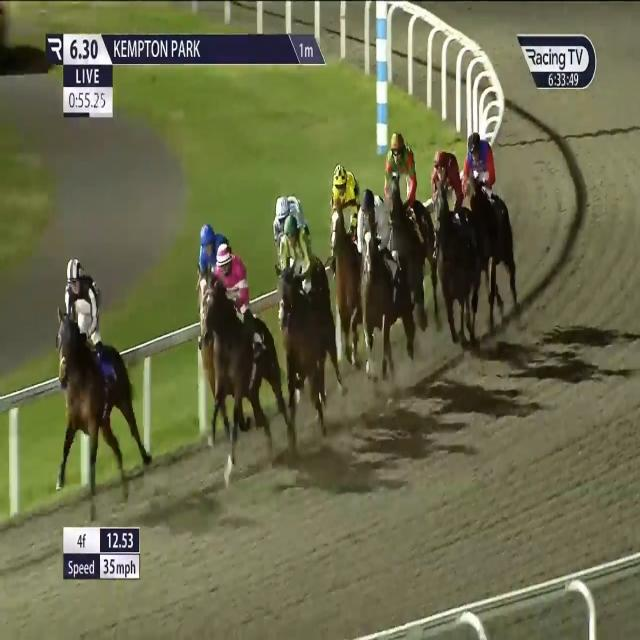horses-racing: (53, 257, 154, 482), (203, 244, 287, 451), (276, 219, 337, 421), (355, 193, 411, 369), (383, 130, 438, 298), (464, 129, 516, 305), (427, 144, 477, 322), (331, 161, 371, 365), (195, 215, 238, 362), (270, 193, 312, 256)
